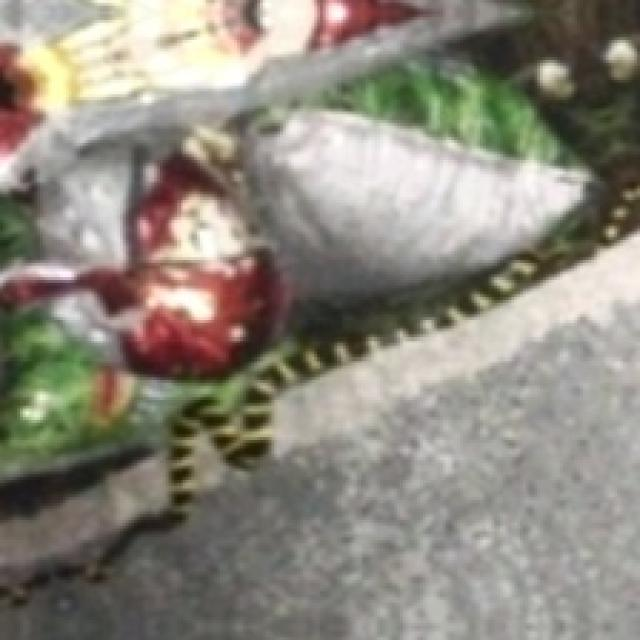mangrove cat snake: (0, 182, 640, 604)
